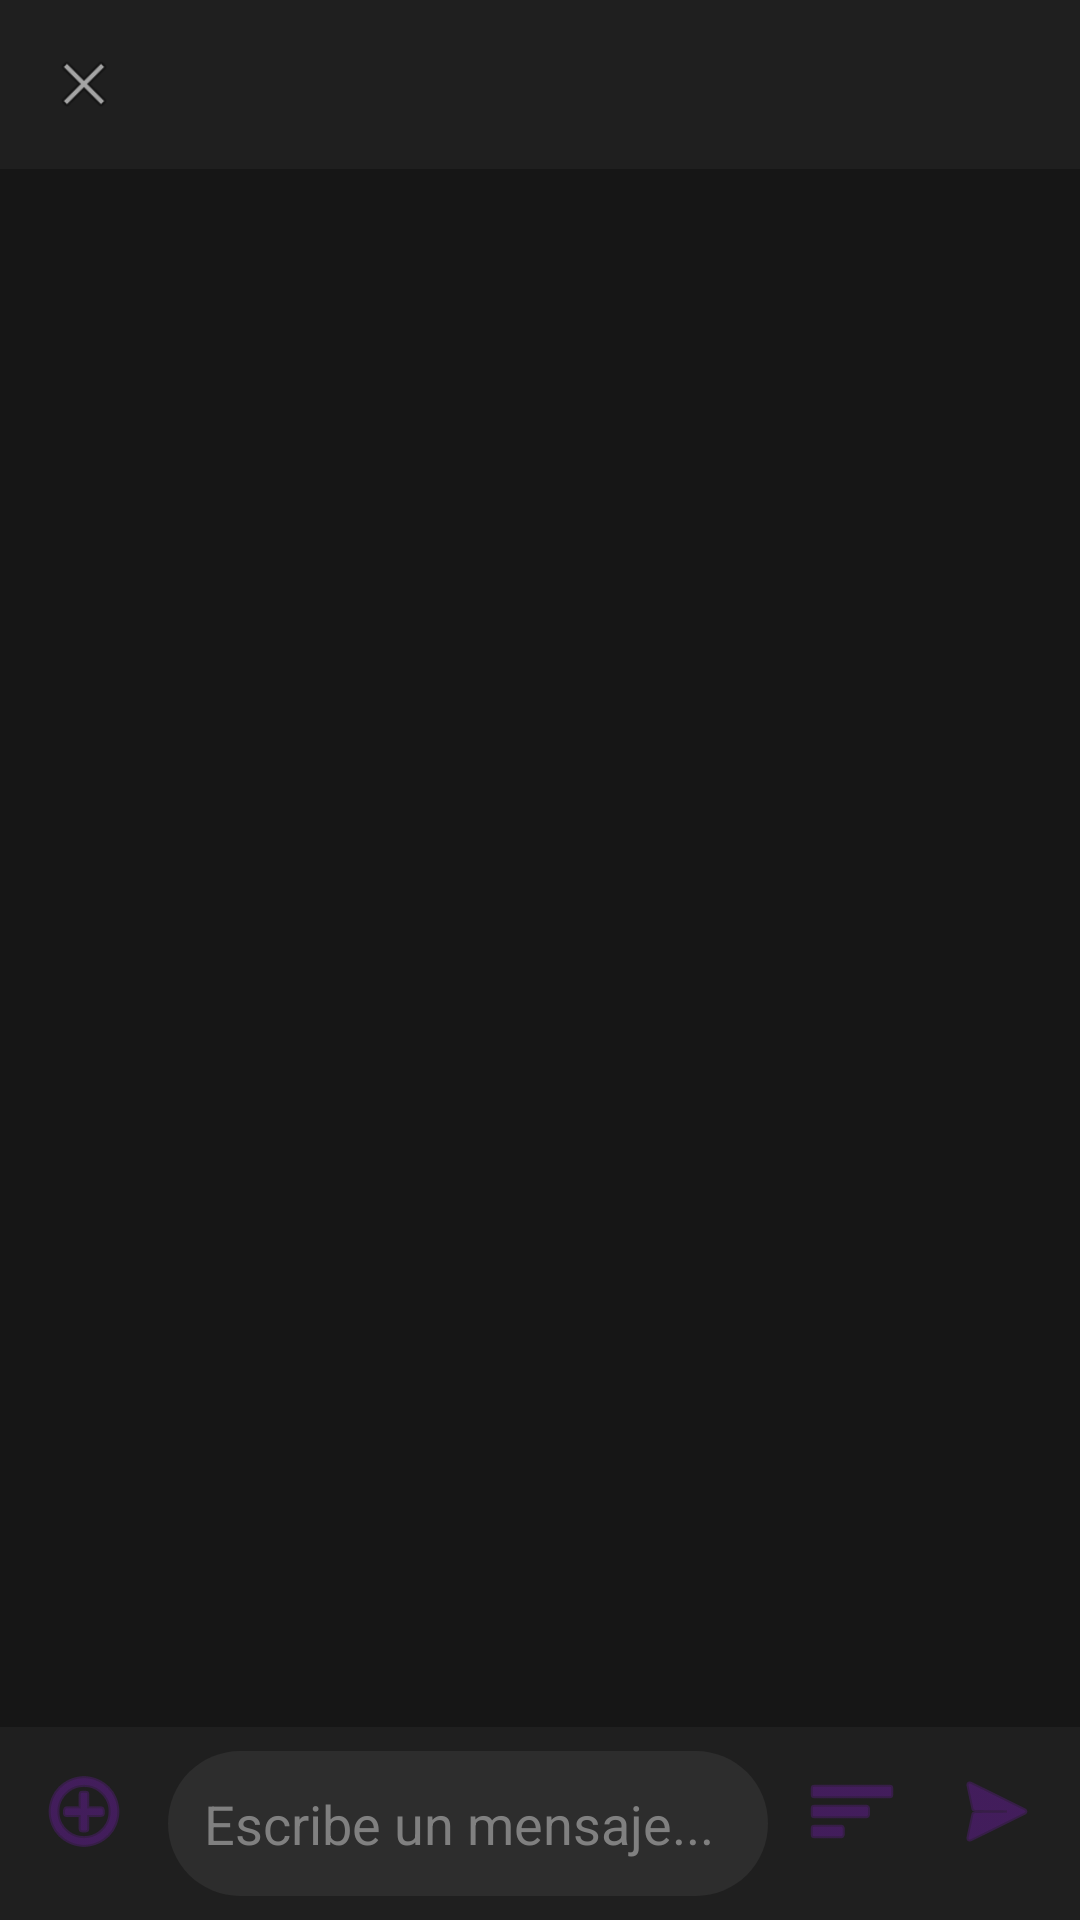

Named icons in this screenshot (1080×1920) and their bounding boxes, (x1, y1, x2, y2):
add: (49, 1776, 119, 1847)
close clear cancel: (64, 64, 104, 104)
send: (967, 1782, 1027, 1841)
sort by size: (811, 1785, 893, 1838)
